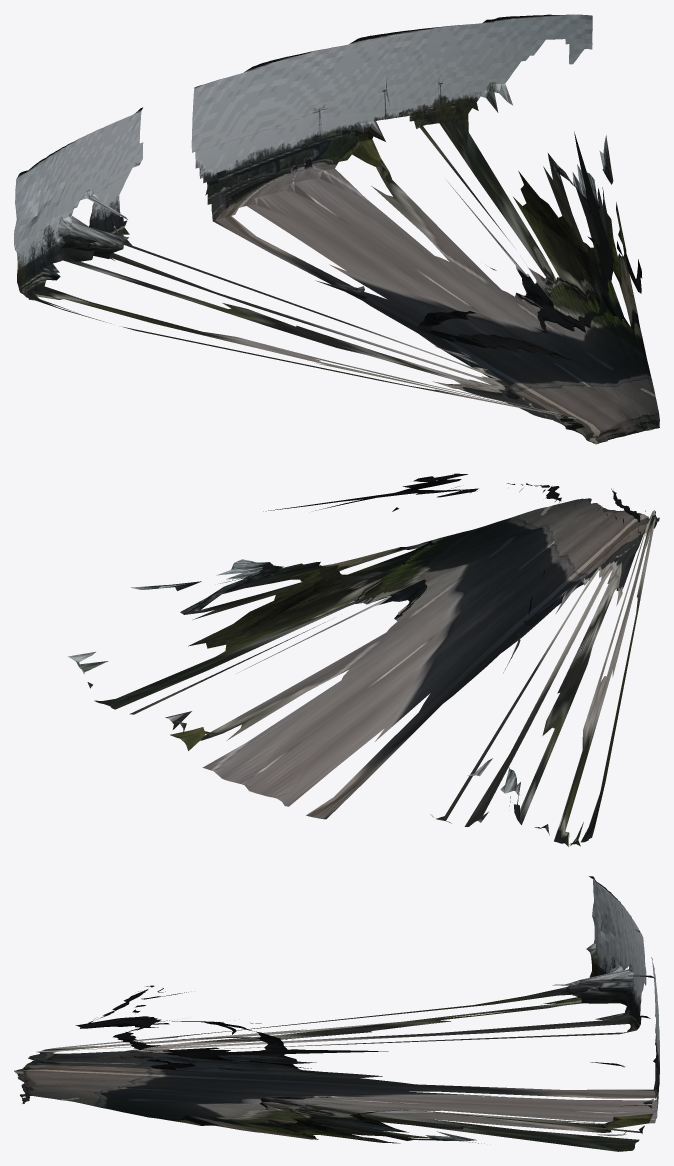
The picture shows the model from 3 angles, top to bottom: view 1: azimuth 30°, elevation 25°; view 2: azimuth 150°, elevation 25°; view 3: azimuth 270°, elevation 25°; orthographic projection. The views are drawn at different scales.
Parts seen in each view (by area): view 1: defaultobject; view 2: defaultobject; view 3: defaultobject.
Boxes of the visible parts, x1,y1,x2,y2 form: defaultobject: (14,14,659,444); defaultobject: (68,473,659,846); defaultobject: (14,876,659,1151).
Size of the model in its own units: 41.09 by 10.67 by 44.59.
1 material, 1 textured.
